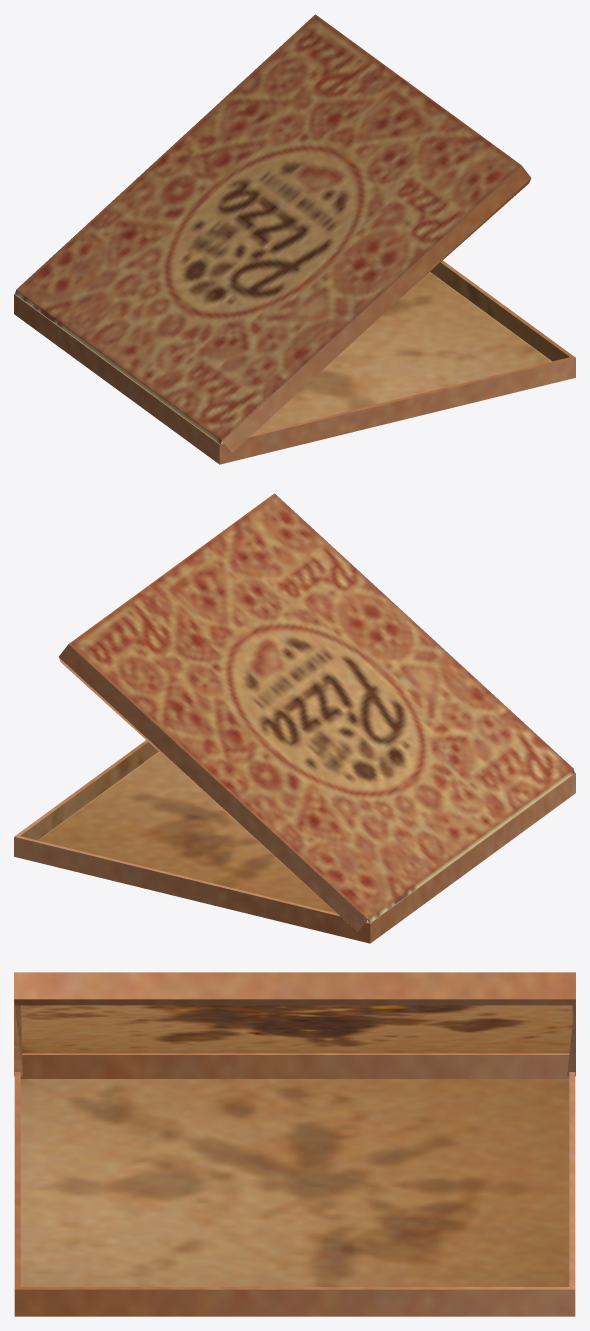
Rendered from pizza_box_semi_close_empty.glb.
3 renders of one model, top to bottom at view 1: azimuth 30°, elevation 25°; view 2: azimuth 150°, elevation 25°; view 3: azimuth 270°, elevation 25°, orthographic. The views are drawn at different scales.
Parts seen in each view (by area): view 1: pizza box semi close empty; view 2: pizza box semi close empty; view 3: pizza box semi close empty.
Part boxes in pixels (bbox=[...]): pizza box semi close empty: bbox=[14, 14, 575, 464]; pizza box semi close empty: bbox=[14, 493, 575, 943]; pizza box semi close empty: bbox=[14, 972, 575, 1316].
Bounding box in the file's own units: 0.5276 × 0.3198 × 0.5286.
Materials: 1 (1 with a texture image).
